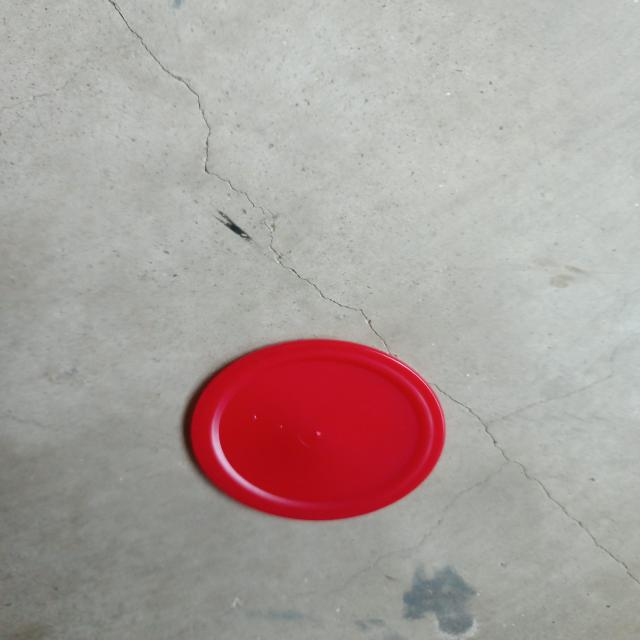chip: (190, 338, 449, 522)
